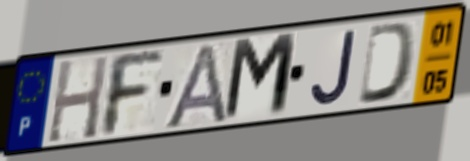A: (160, 40, 230, 132)
D: (355, 19, 420, 108)
F: (101, 48, 166, 140)
H: (44, 53, 112, 146)
J: (307, 26, 360, 108)
M: (220, 29, 301, 125)
